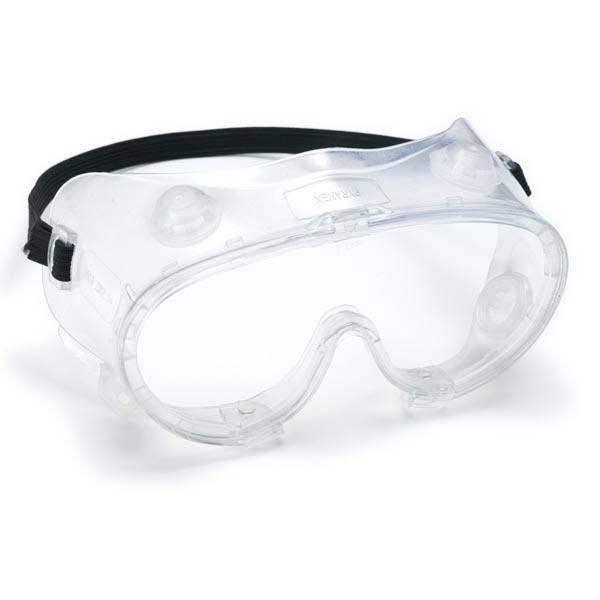Goggles: (40, 143, 572, 469)
